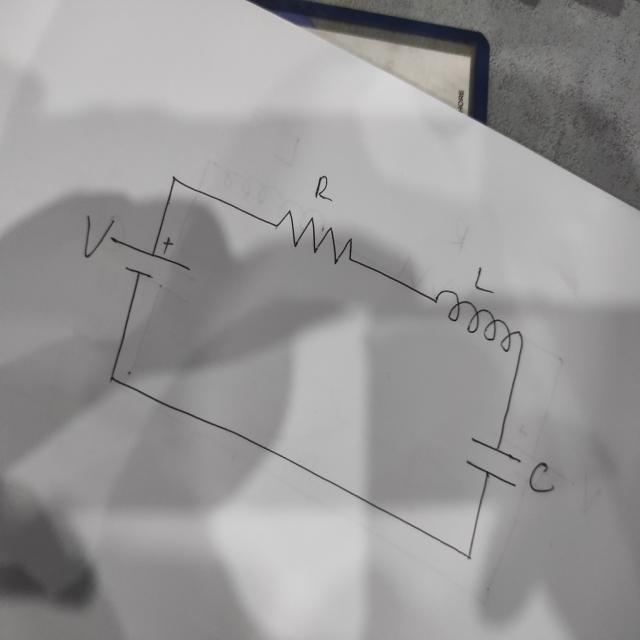capacitor: (462, 435, 522, 488)
inductor: (433, 288, 524, 353)
junction: (167, 170, 180, 189), (463, 546, 474, 564), (107, 372, 116, 384)
resistor: (271, 206, 354, 268)
source: (109, 234, 192, 280)
text: (81, 213, 116, 260), (528, 459, 556, 494), (472, 264, 496, 297), (311, 172, 336, 203)
